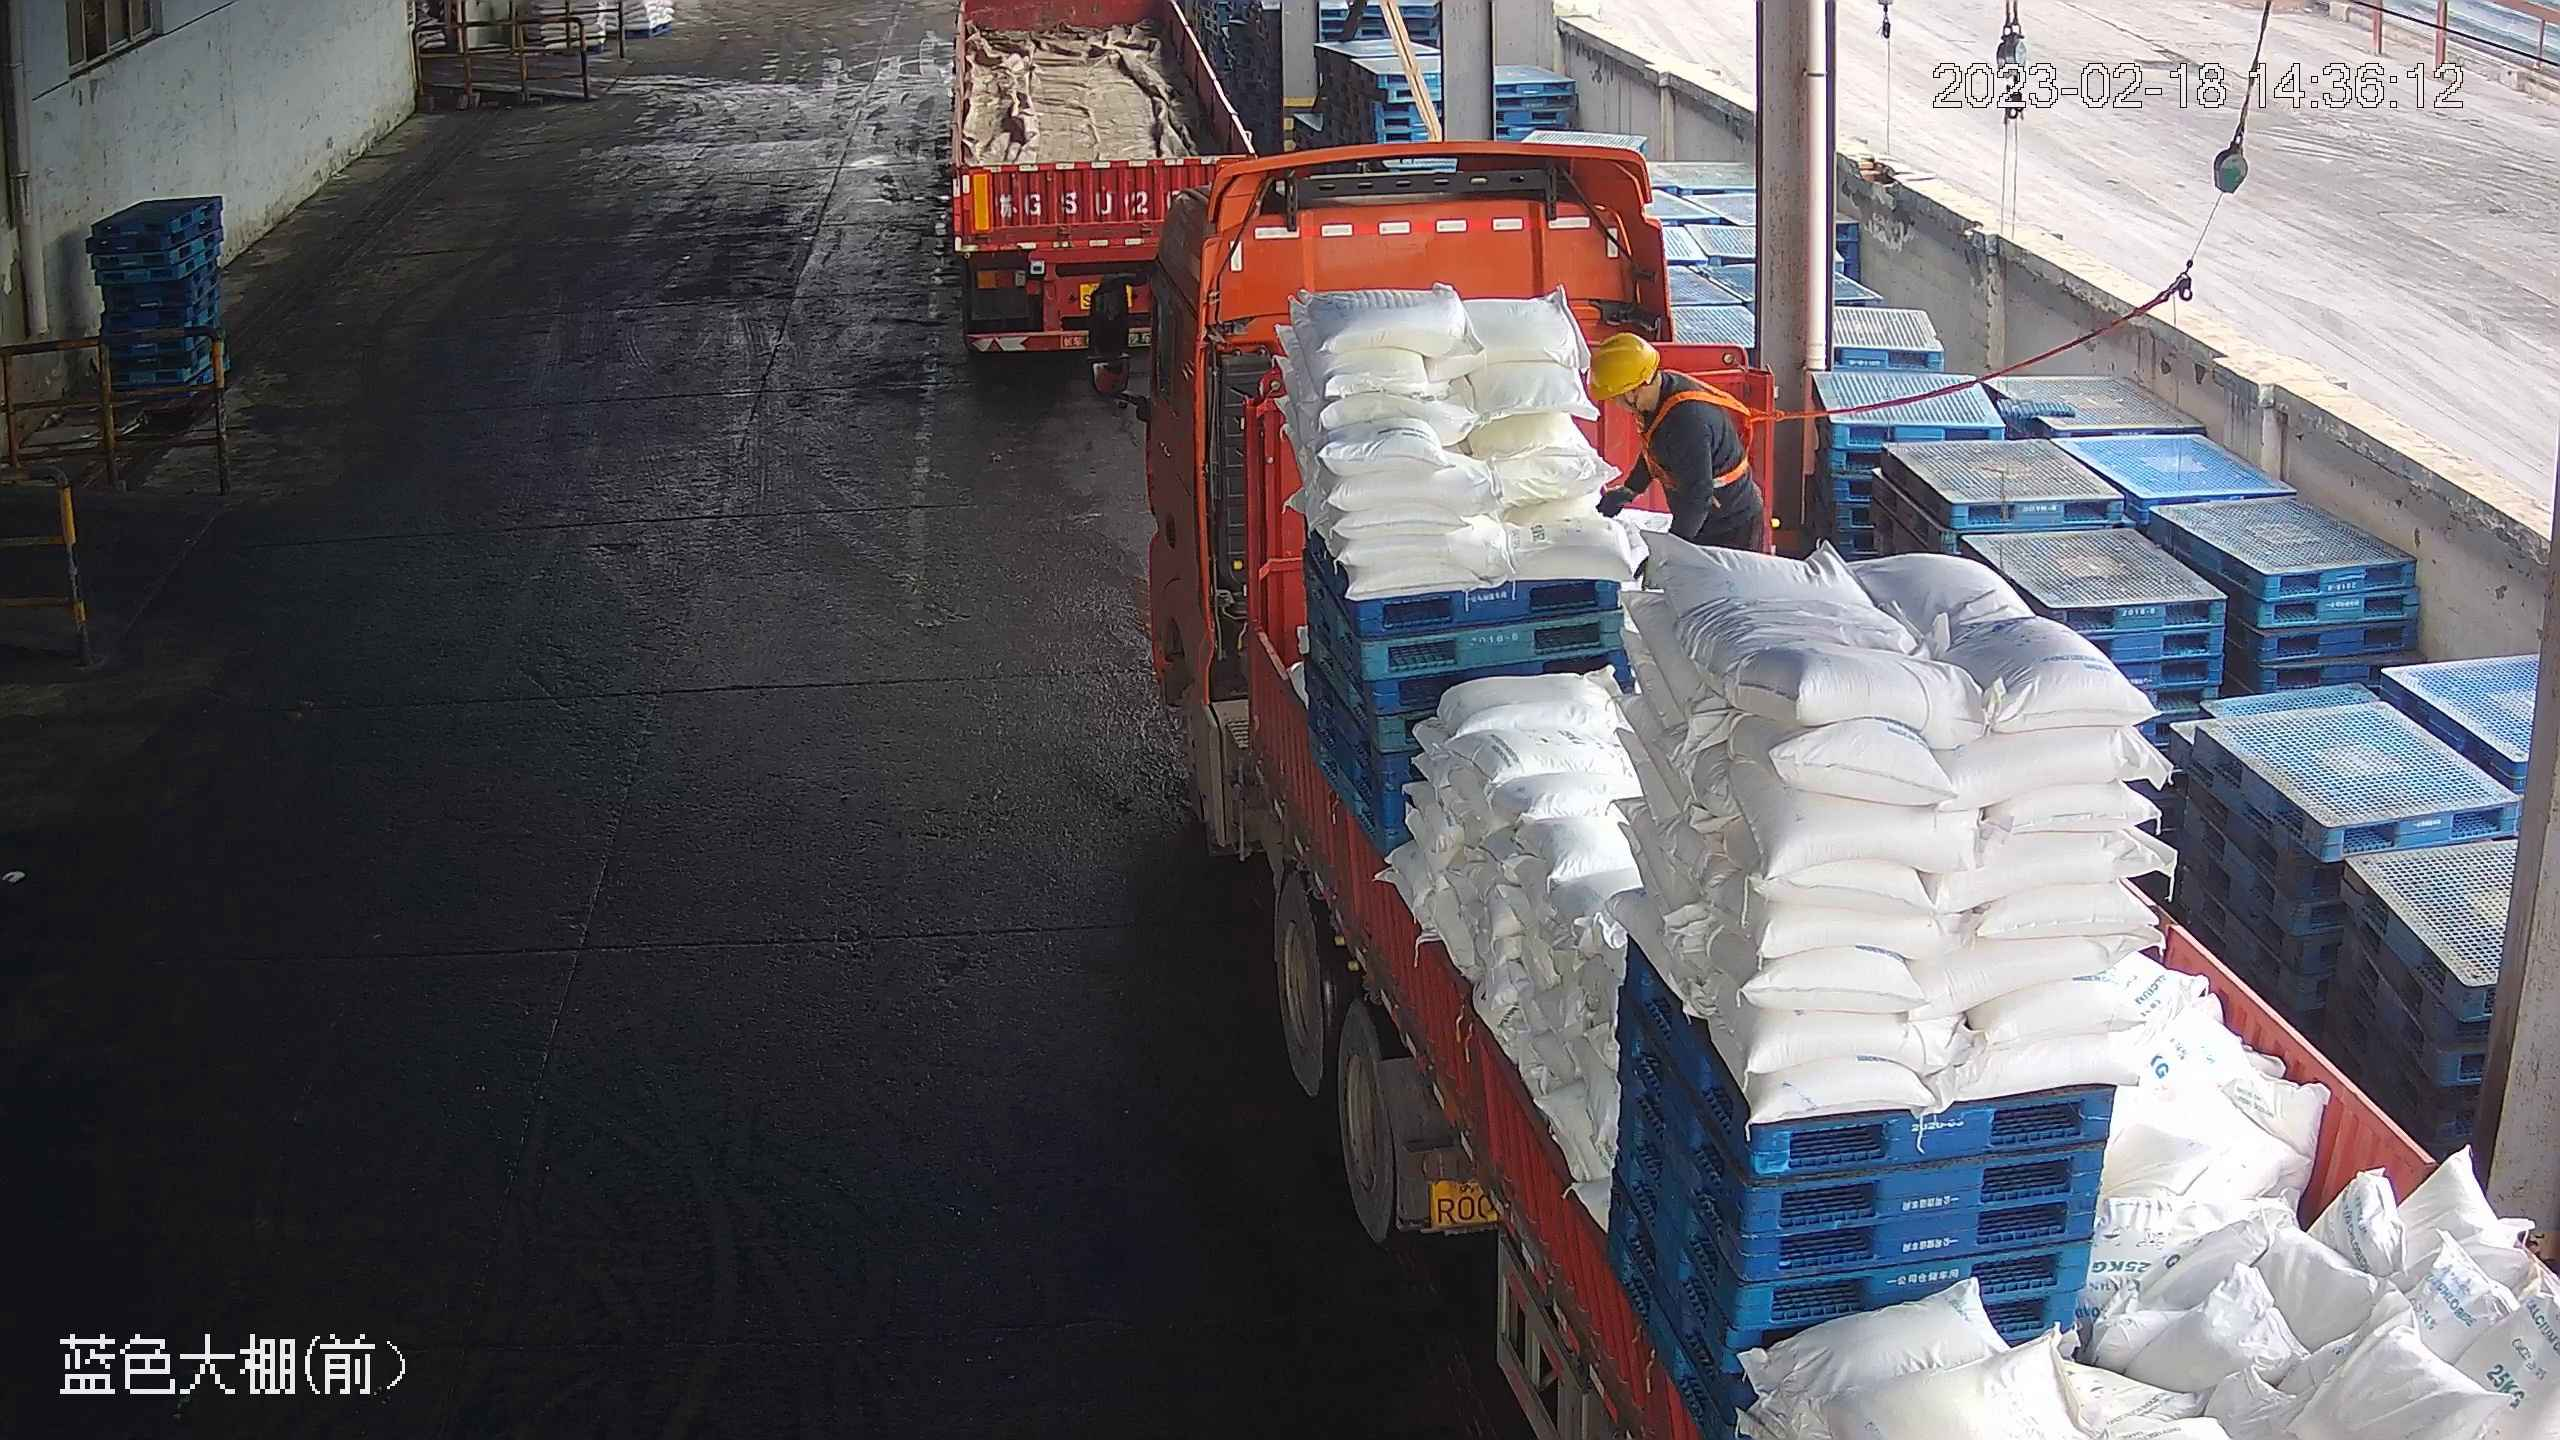belt: (1639, 369, 1782, 491)
head: (1587, 331, 1741, 438)
helmet: (1585, 330, 1661, 402)
people: (1586, 330, 1766, 558)
truck: (1140, 138, 2560, 1440)
